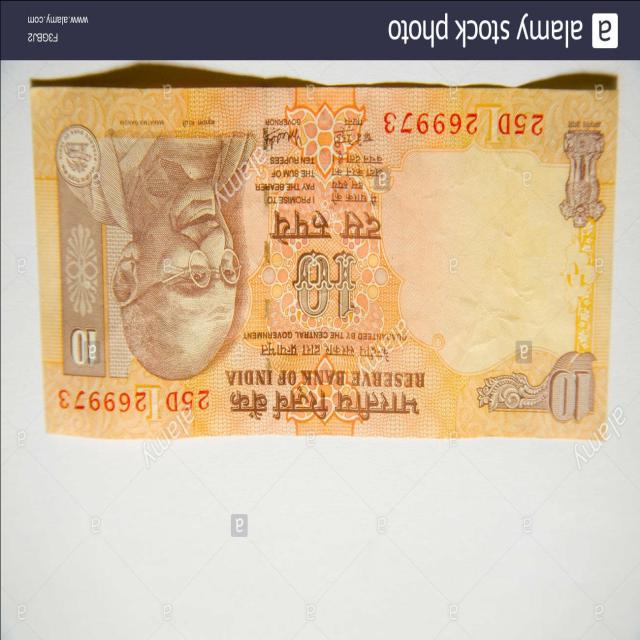10IndianRupees: (43, 86, 617, 436)
